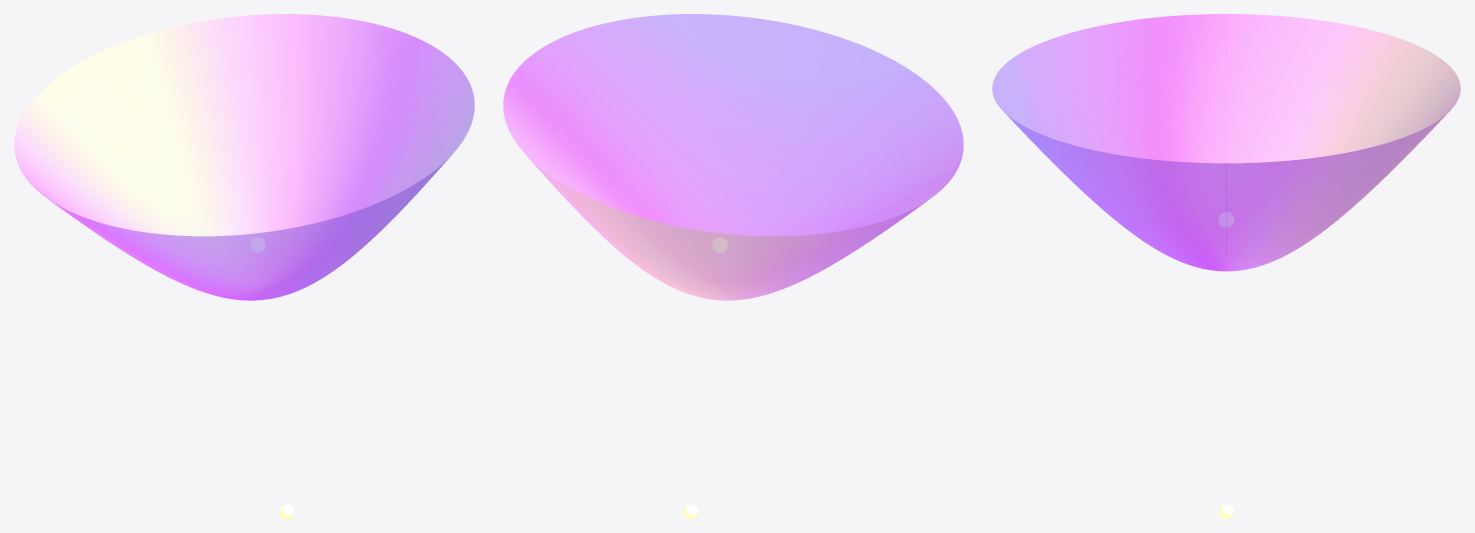
File: binary-shock-v0.1.glb
3 renders of one model, left to right at view 1: azimuth 30°, elevation 25°; view 2: azimuth 150°, elevation 25°; view 3: azimuth 270°, elevation 25°, orthographic.
Parts seen in each view (by area): view 1: IBS shock surface; view 2: IBS shock surface; view 3: IBS shock surface.
Boxes of the visible parts, left/top/right/bottom form: IBS shock surface: left=14, top=14, right=474, bottom=300; IBS shock surface: left=503, top=14, right=963, bottom=300; IBS shock surface: left=992, top=14, right=1460, bottom=271.
Bounding box in the file's own units: 1.51 × 1.55 × 1.52.
